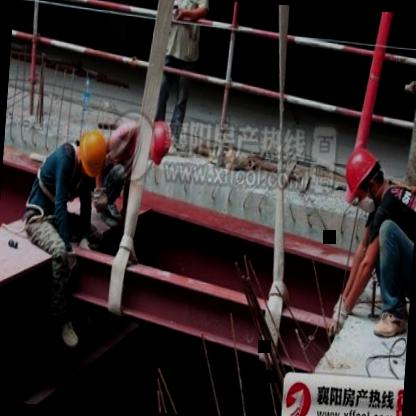helmet: (338, 138, 392, 212), (72, 122, 114, 184), (148, 121, 176, 169)
